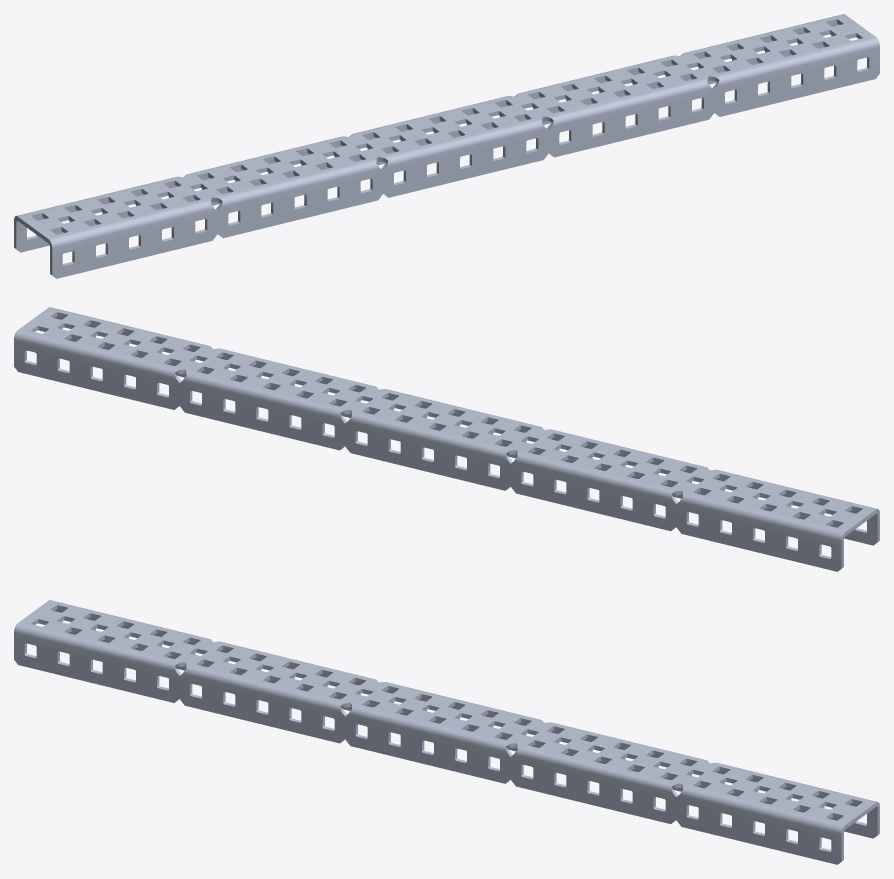
The model's file is 1x2x1x25-aluminum-c-channel.glb.
3 views of the same model, one above another, from view 1: azimuth 30°, elevation 25°; view 2: azimuth 150°, elevation 25°; view 3: azimuth 330°, elevation 25° (orthographic).
Parts seen in each view (by area): view 1: 276-2288-001 Rev1; view 2: 276-2288-001 Rev1; view 3: 276-2288-001 Rev1.
Part boxes in pixels (bbox=[...]): 276-2288-001 Rev1: bbox=[14, 14, 879, 278]; 276-2288-001 Rev1: bbox=[14, 307, 879, 571]; 276-2288-001 Rev1: bbox=[14, 600, 879, 864].
Bounding box in the file's own units: 0.3175 × 0.014 × 0.0254.
